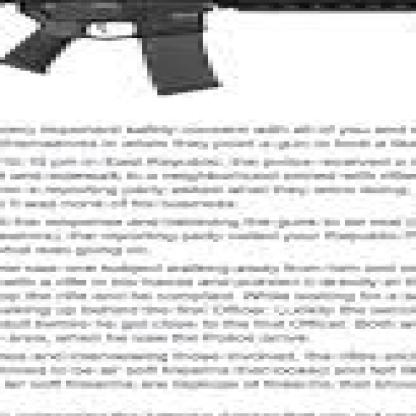gun: (0, 0, 411, 343)
